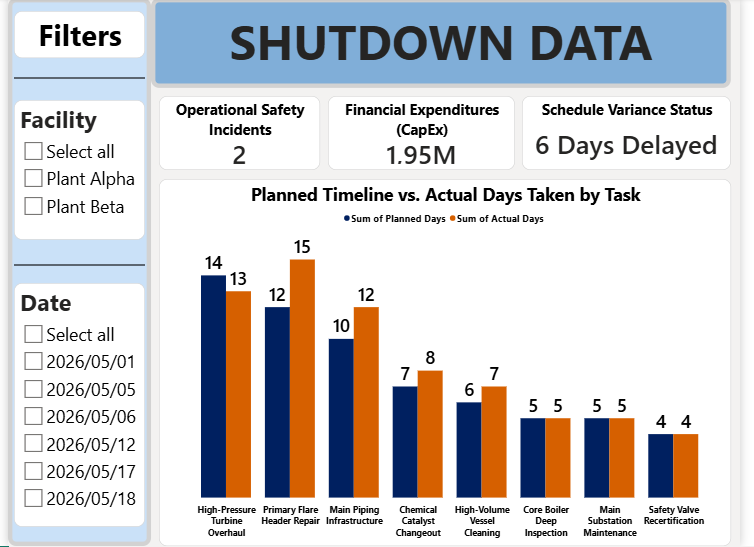

This screenshot's page, from the dashboard's own definition file:
{"tool":"powerbi","page":{"name":"Page 1","canvas":[1335,1000],"ordinal":0},"visuals":[{"type":"textbox","box":[0,0,260.9,1000],"z":0},{"type":"textbox","box":[260.9,0,1058.4,164.2],"z":0},{"type":"card","title":"Operational Safety Incidents","fields":{"Values":["Turnaround_Project_Data.Total Incidents"]},"box":[276.4,178.4,293.8,135],"z":0,"group":"g1"},{"type":"card","title":"Financial Expenditures (CapEx) ","fields":{"Values":["Turnaround_Project_Data.Total CapEx Spent"]},"box":[584.8,178.4,341.2,135],"z":1000,"group":"g1"},{"type":"slicer","title":"Facility","fields":{"Values":["Turnaround_Project_Data.Facility"]},"box":[10.9,186.1,239.1,255.5],"z":1000},{"type":"clusteredColumnChart","title":"Planned Timeline vs. Actual Days Taken by Task","fields":{"Category":["Turnaround_Project_Data.Shutdown Task"],"Y":["Sum(Turnaround_Project_Data.Planned Days)","Sum(Turnaround_Project_Data.Actual Days)"]},"box":[275.5,330.3,1043.8,669.7],"z":1000},{"type":"card","title":"Schedule Variance Status","fields":{"Values":["Turnaround_Project_Data.Days Status Text"]},"box":[938.1,178.4,381.4,135],"z":2000,"group":"g1"},{"type":"slicer","title":"Date","fields":{"Values":["Turnaround_Project_Data.Date"]},"box":[10.9,520.1,239.1,445.3],"z":2000},{"type":"group","id":"g1","title":"Group 2","box":[276.4,178.4,1043.1,135],"z":3000},{"type":"textbox","title":"Filters","box":[10.9,23.7,239.1,85.8],"z":3001},{"type":"shape","box":[10.9,454.4,239.1,65.7],"z":3002},{"type":"shape","box":[10.9,113.1,239.1,65.7],"z":3003}]}

Visuals, with their boxes on the page's 1335x1000 design canvas (x1, y1, x2, y2). These are canvas units, not pixel positions in the 754x547 screenshot, which may show the page scaled, cropped or inside an application window:
textbox: bbox=(0, 0, 261, 1000)
textbox: bbox=(261, 0, 1319, 164)
"Operational Safety Incidents" card: bbox=(276, 178, 570, 313)
"Financial Expenditures (CapEx) " card: bbox=(585, 178, 926, 313)
"Facility" slicer: bbox=(11, 186, 250, 442)
"Planned Timeline vs. Actual Days Taken by Task" clusteredColumnChart: bbox=(276, 330, 1319, 1000)
"Schedule Variance Status" card: bbox=(938, 178, 1320, 313)
"Date" slicer: bbox=(11, 520, 250, 965)
"Group 2" group: bbox=(276, 178, 1320, 313)
"Filters" textbox: bbox=(11, 24, 250, 110)
shape: bbox=(11, 454, 250, 520)
shape: bbox=(11, 113, 250, 179)
